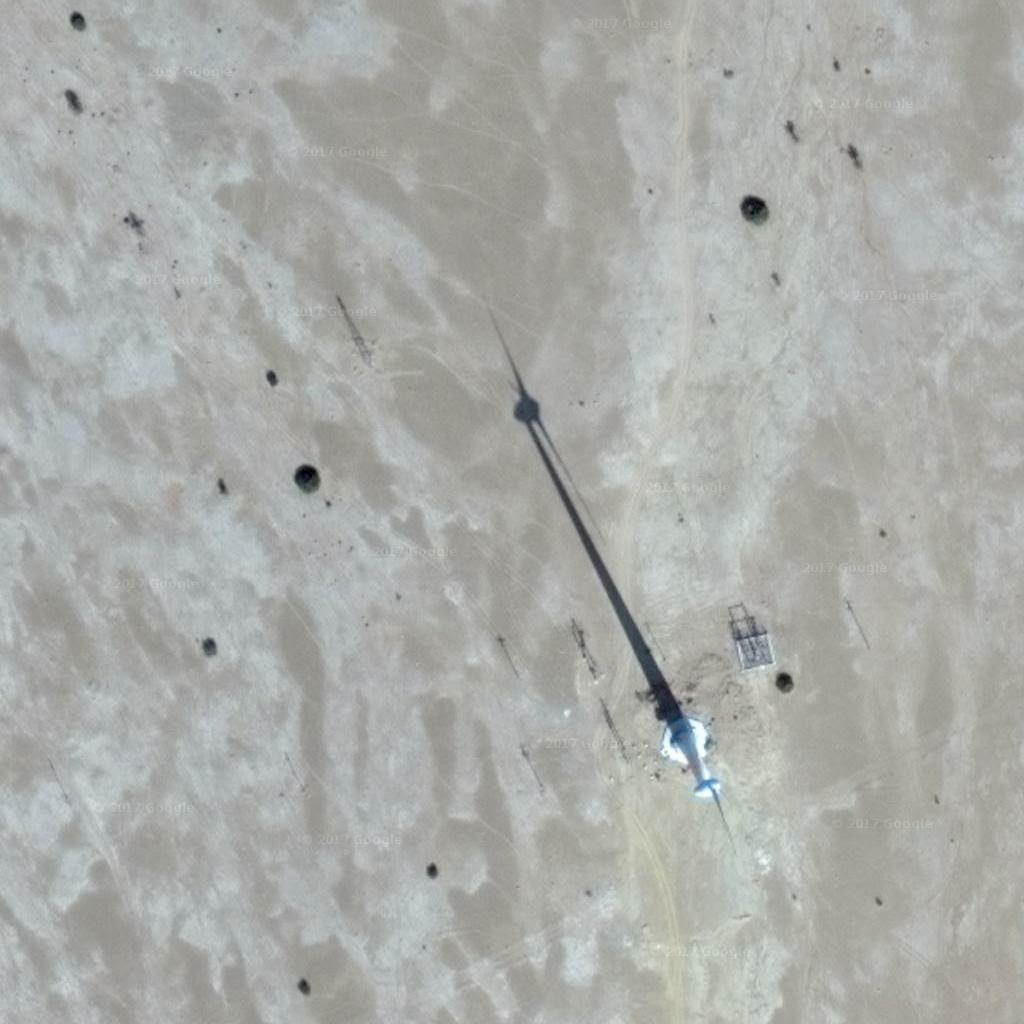Windmill: (466, 297, 701, 743)
